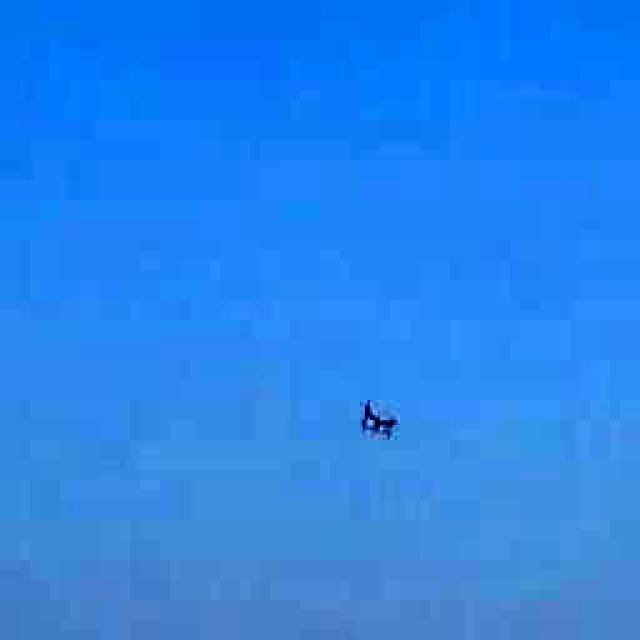bird: (344, 391, 406, 451)
